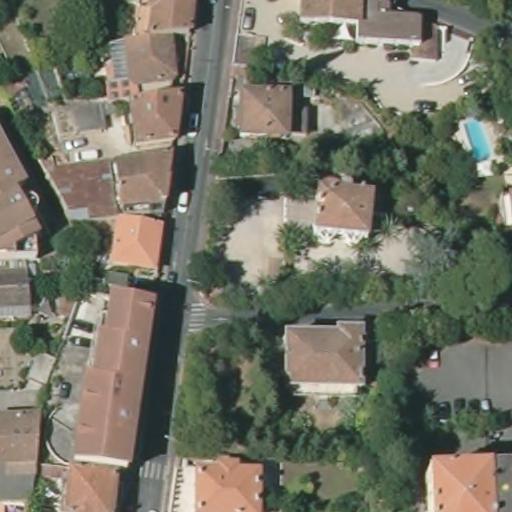pool: (463, 116, 494, 162)
